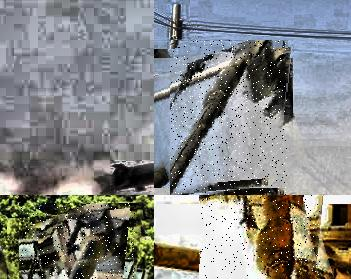tanks: (172, 41, 288, 196), (202, 196, 321, 279), (21, 204, 129, 279), (155, 123, 159, 135)
